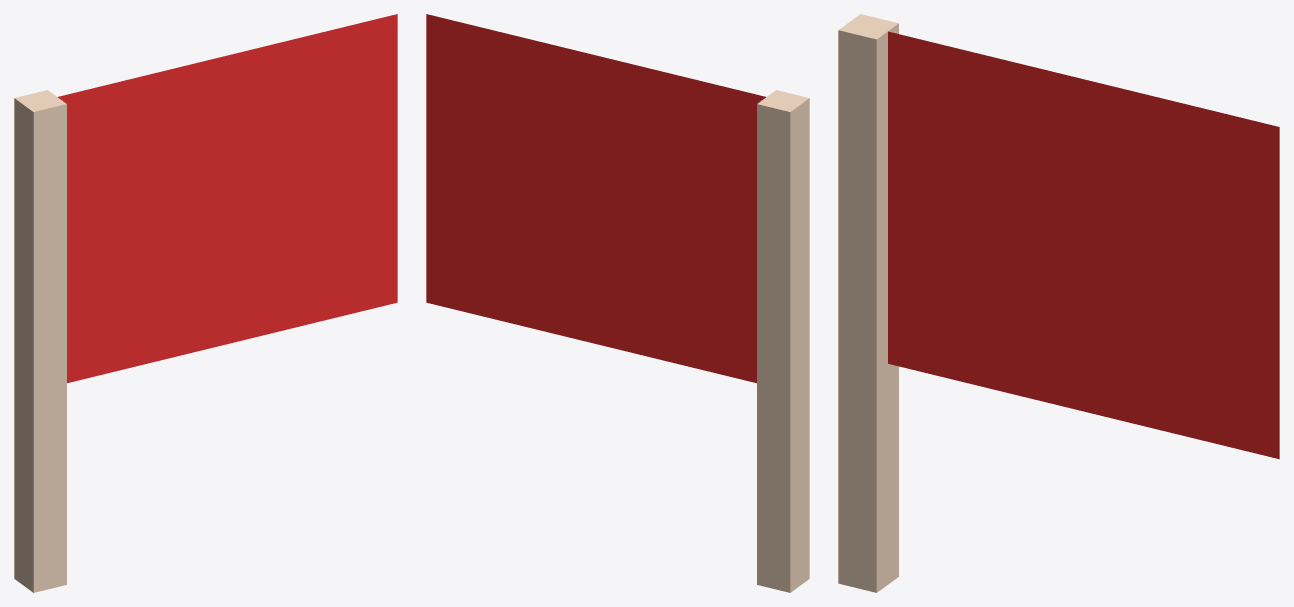
Rendered from Abstract_Castle_Flag_01.fbx.
3 renders of one model, left to right at view 1: azimuth 30°, elevation 25°; view 2: azimuth 150°, elevation 25°; view 3: azimuth 330°, elevation 25°, orthographic. The views are drawn at different scales.
Visible parts, largest first — view 1: Model; view 2: Model; view 3: Model.
Part boxes in pixels (x1,y1,x2,y2): Model: (14,14,397,592); Model: (426,14,809,592); Model: (838,14,1279,592).
Size of the model in its own units: 434 by 534 by 38.71.
